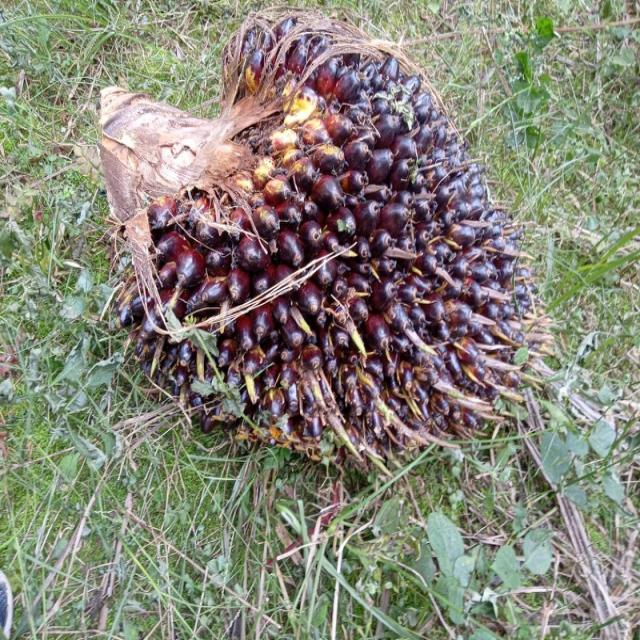fraksi 00: (129, 18, 541, 470)
